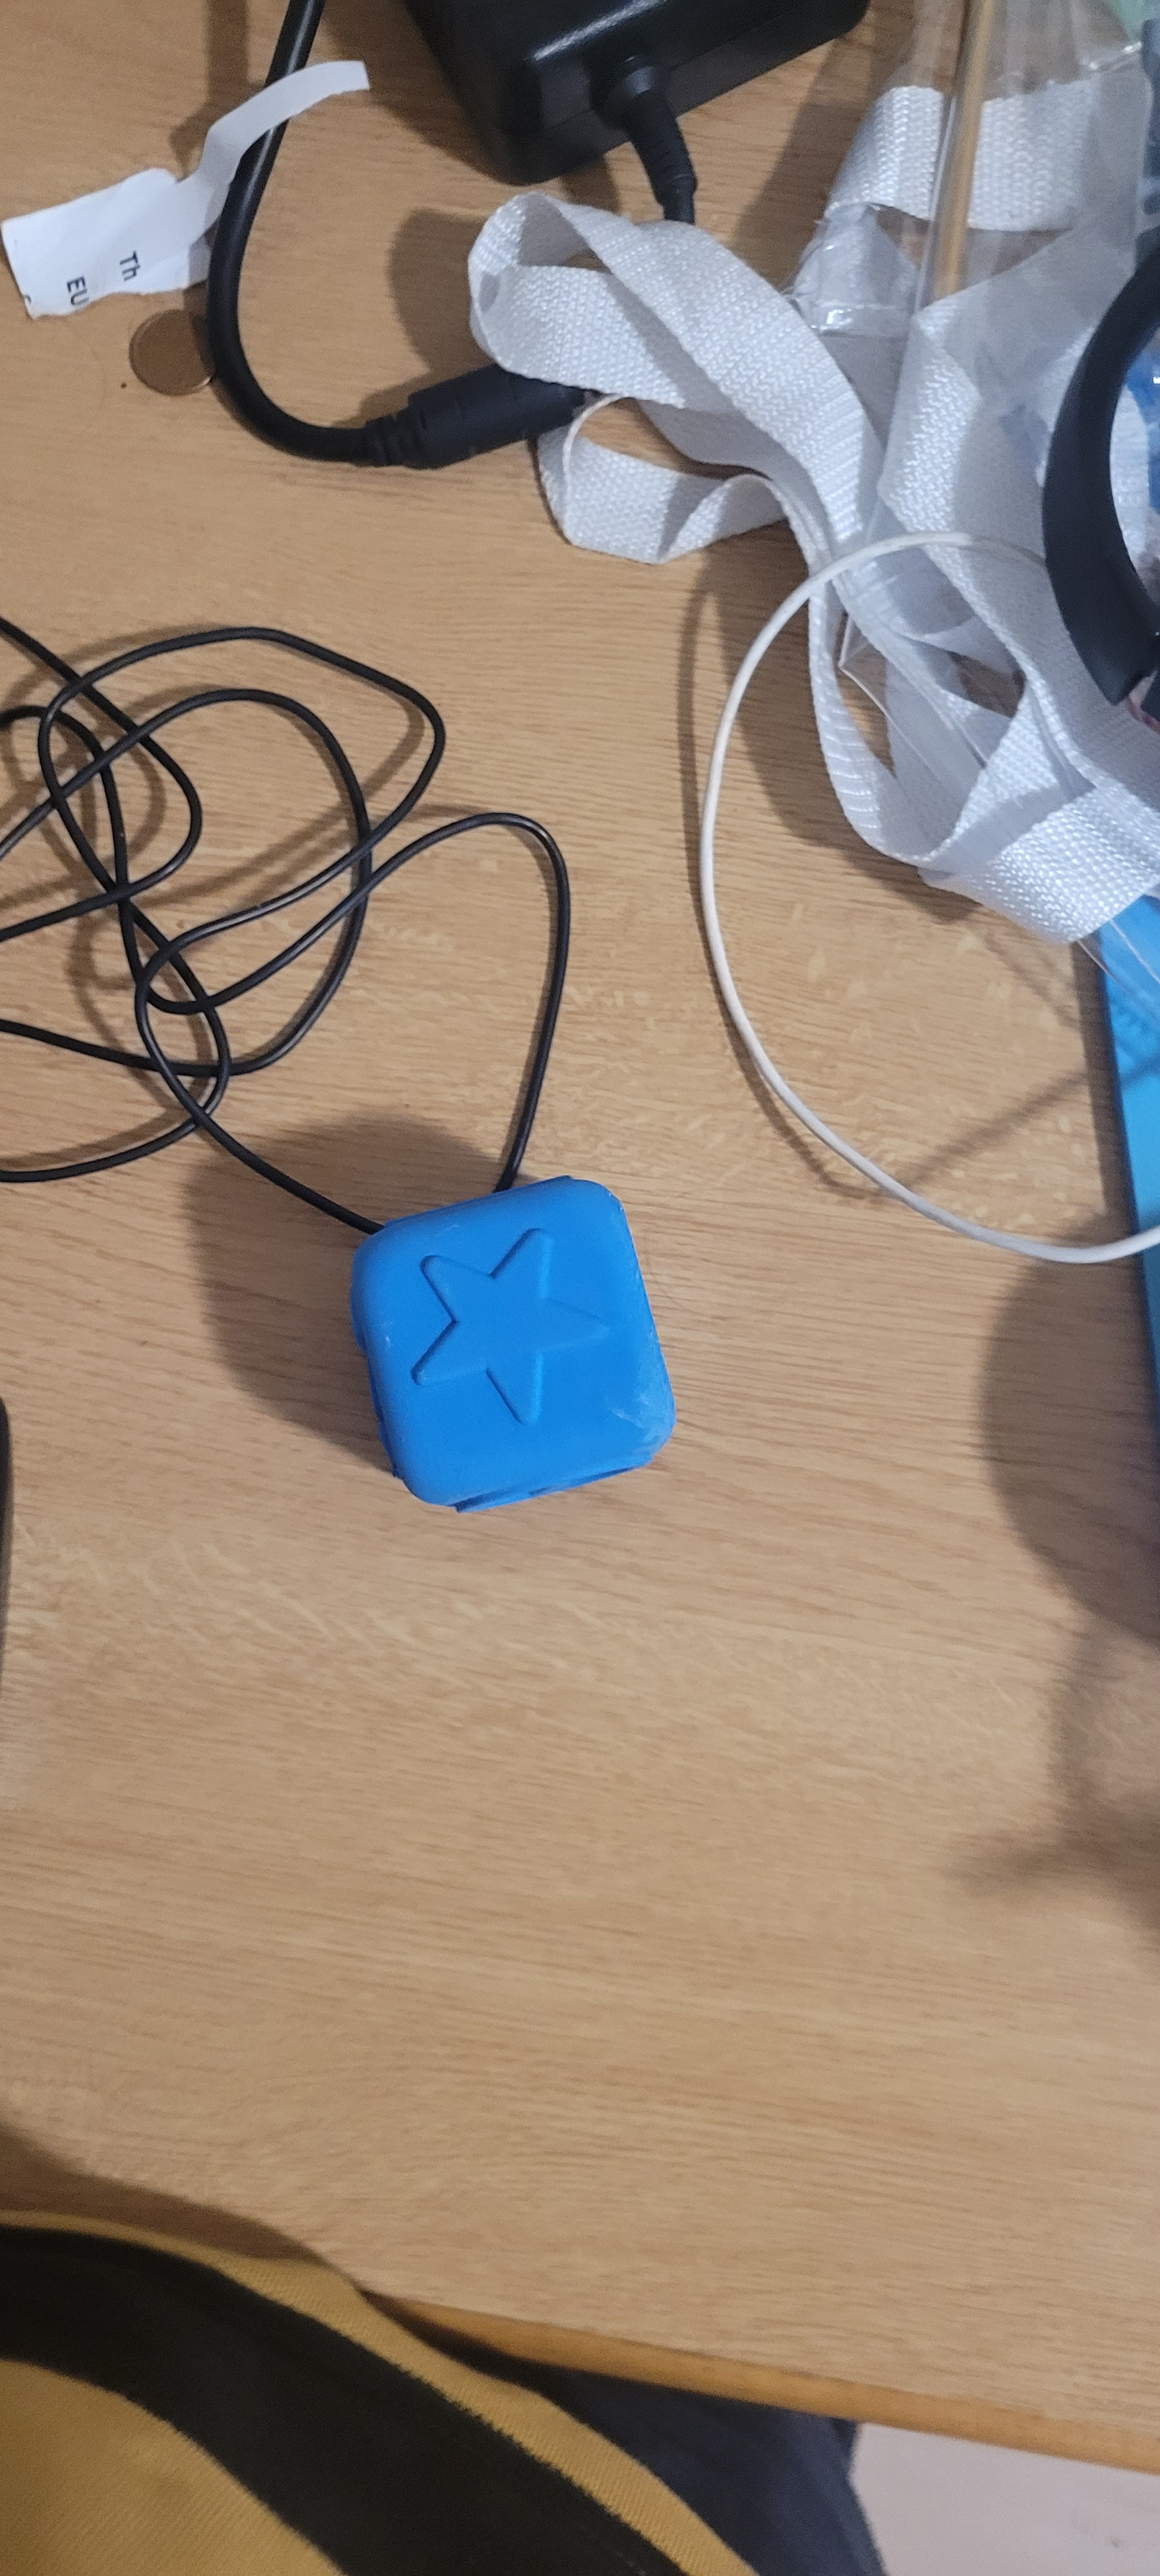Star: (353, 1235, 633, 1434)
